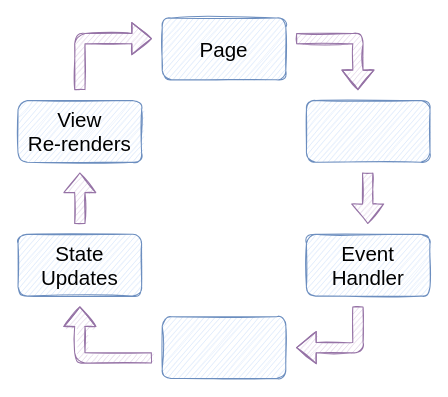
The diagram is 448 pixels wide and 397 high, and some of its shapes have lost their labels. Each missing label, with the box of its shape:
Event: (305, 99, 430, 162)
Transformer Function: (161, 316, 286, 379)
